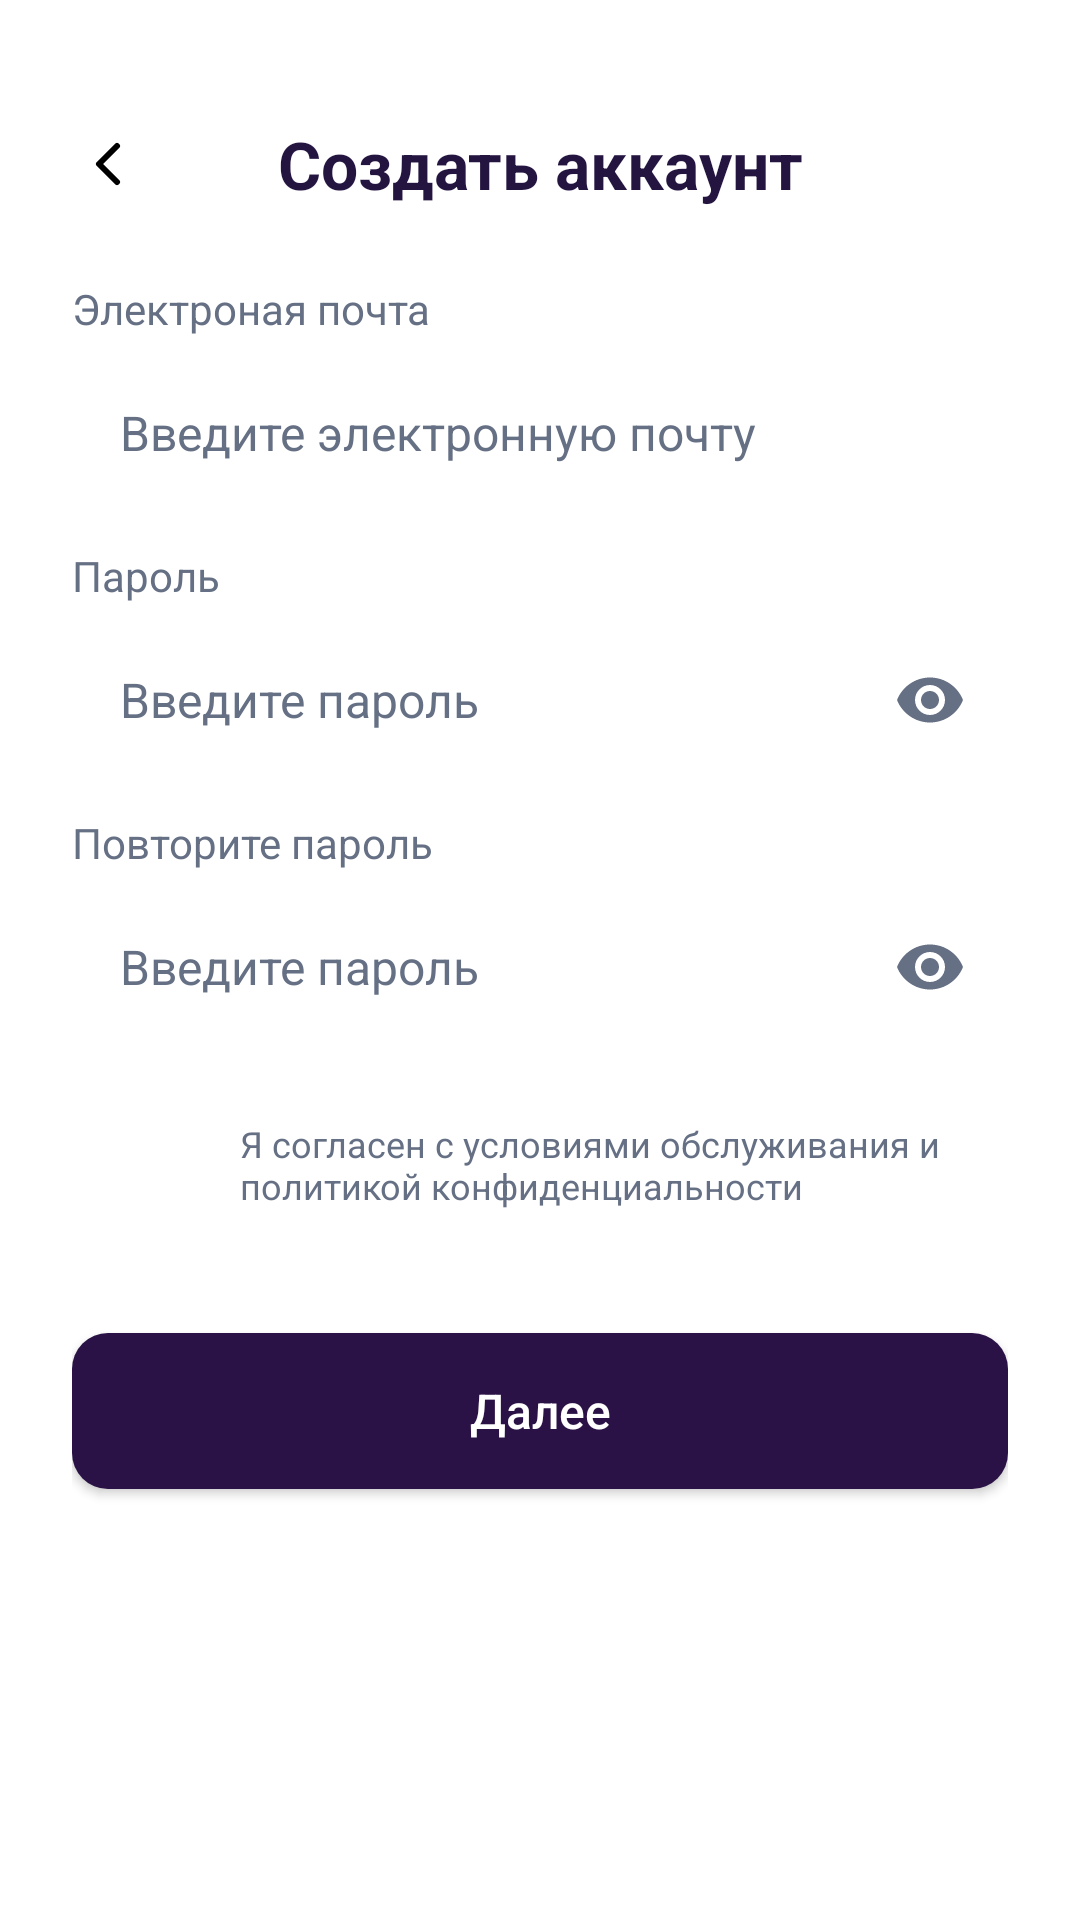

Screen size 1080 x 1920. Icon name, then its box in pixels as (x1, y1, x2, y2):
chevron left: (96, 143, 120, 185)
visibility: (897, 677, 963, 723), (897, 944, 963, 990)
